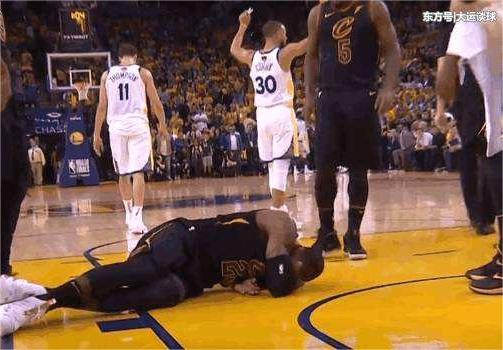down: (1, 209, 315, 329)
up: (305, 1, 390, 259), (232, 5, 310, 217), (92, 43, 167, 233)
